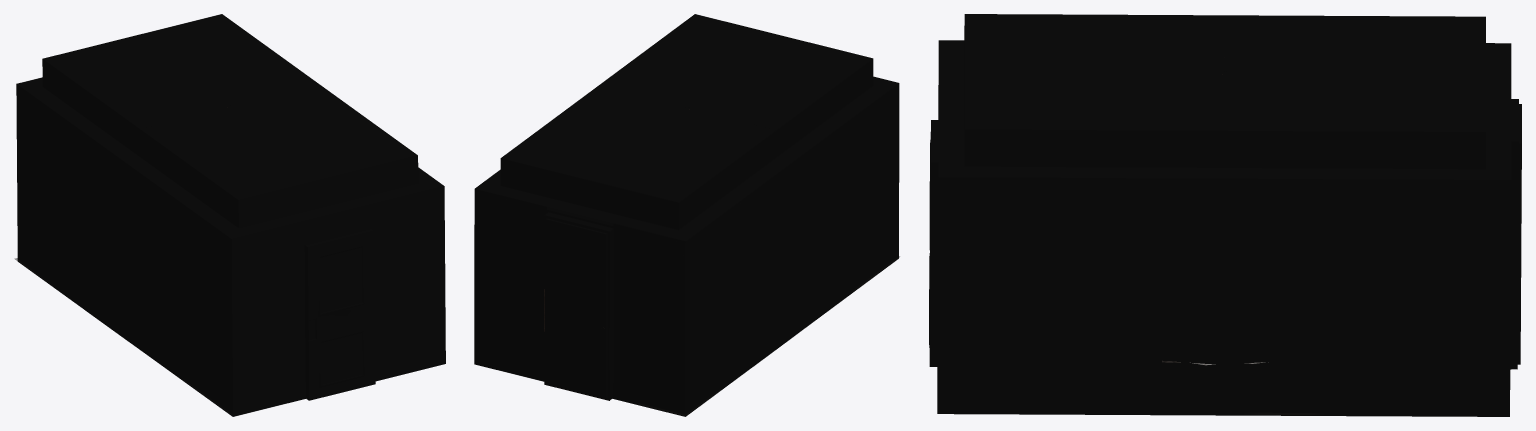
The model's file is vecatelpa.glb.
3 renders of one model, left to right at view 1: azimuth 30°, elevation 25°; view 2: azimuth 150°, elevation 25°; view 3: azimuth 270°, elevation 25°, orthographic. The views are drawn at different scales.
Parts seen in each view (by area): view 1: Material2; view 2: Material2; view 3: Material2.
Boxes of the visible parts, <box> form: Material2: <box>16,14,445,416</box>; Material2: <box>474,14,899,416</box>; Material2: <box>929,14,1521,416</box>.
Bounding box in the file's own units: 318 × 290 × 562.
9 materials, 9 textured.
